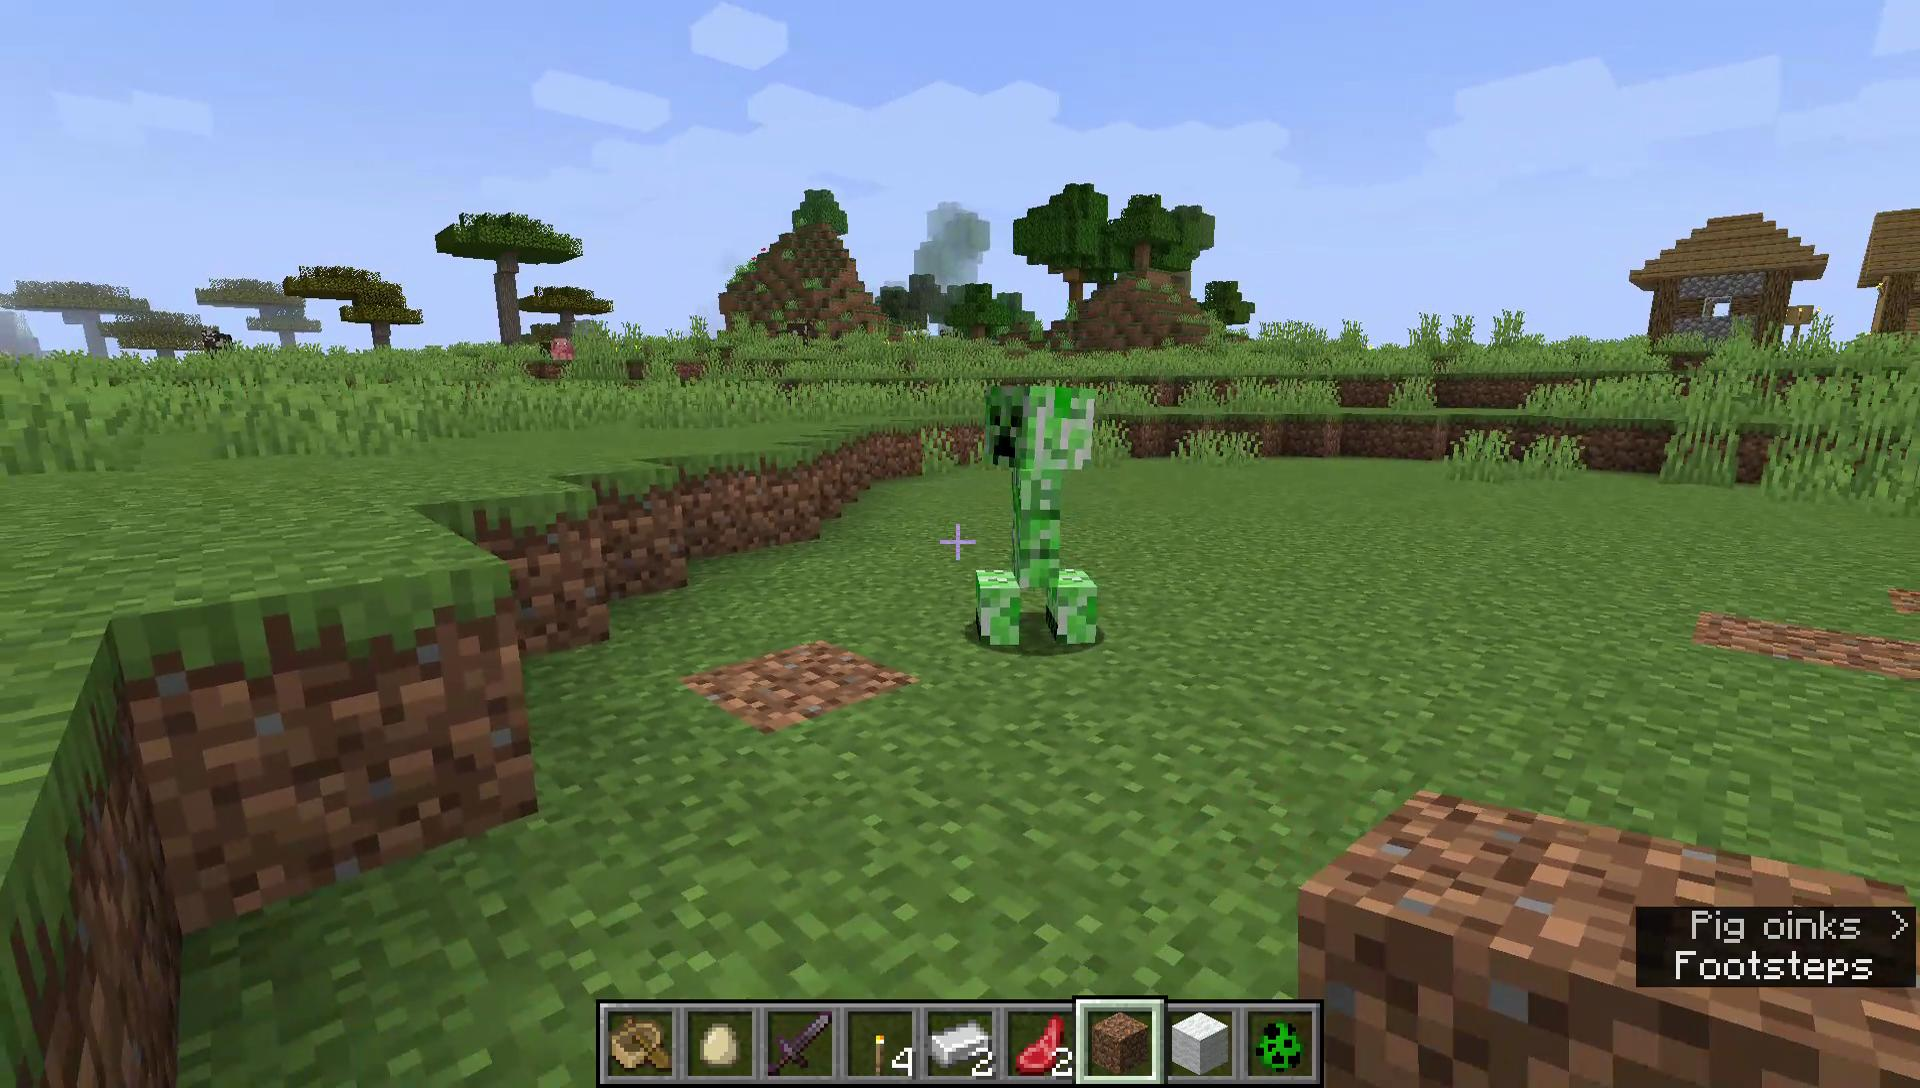cow: (200, 326, 239, 363), (785, 317, 816, 349)
creeper: (965, 376, 1106, 654)
pig: (551, 336, 576, 361)
